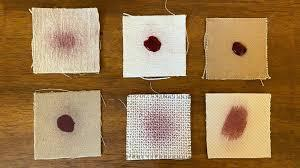oil: (142, 108, 179, 145), (221, 103, 250, 145), (49, 32, 88, 60), (57, 114, 80, 135), (141, 32, 162, 52), (227, 39, 244, 59)
